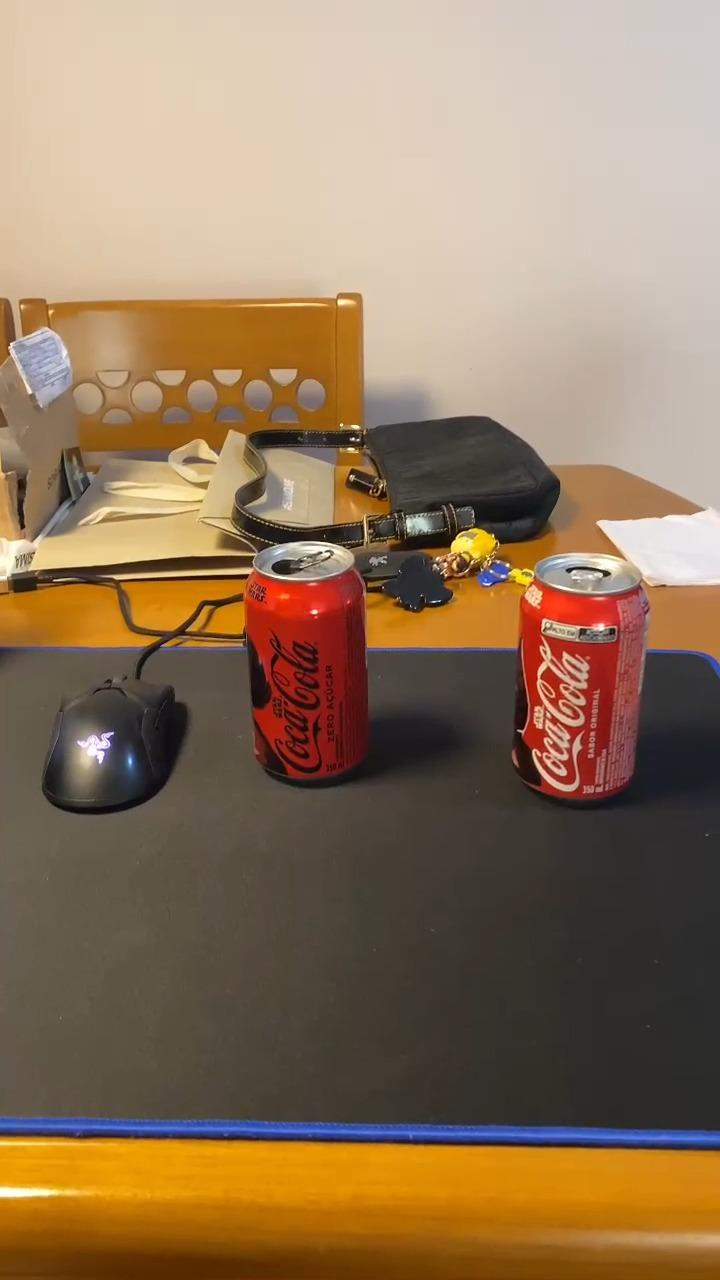coke: (511, 553, 650, 801), (243, 542, 370, 779)
